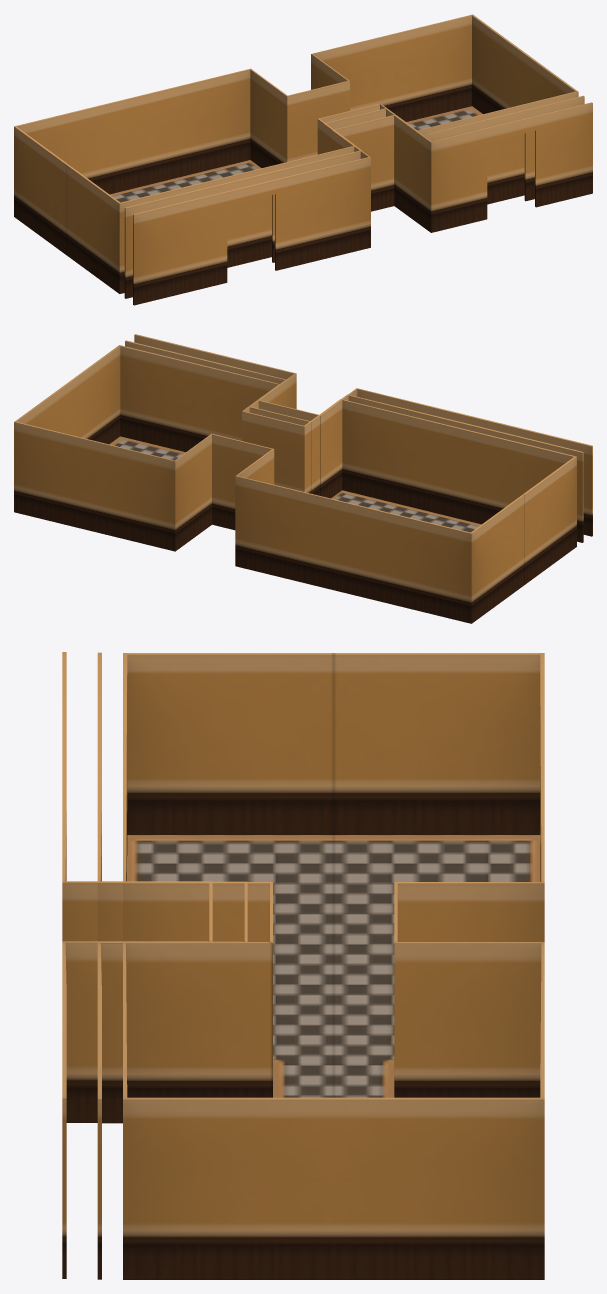
File: Room_03.FBX
3 views of the same model, one above another, from view 1: azimuth 30°, elevation 25°; view 2: azimuth 150°, elevation 25°; view 3: azimuth 270°, elevation 25° (orthographic). The views are drawn at different scales.
Parts seen in each view (by area): view 1: Wall_Door_03_single001, Room3_wall001, Room3_wall002, Room3_wall003, Wall_Door_03_double001, Room3_wall004, Room3_Floor001; view 2: Room3_wall001, Room3_wall003, Room3_wall002, Wall_Door_03_single001, Room3_wall004, Wall_Door_03_double001, Room3_Floor001; view 3: Room3_wall004, Room3_wall002, Room3_Floor001, Room3_wall001, Room3_wall003, Wall_Door_03_single001, Wall_Door_03_double001.
Part boxes in pixels (x1,y1,x2,y2): Wall_Door_03_single001: [133, 102, 592, 305]; Room3_wall001: [14, 14, 473, 213]; Room3_wall002: [14, 126, 121, 293]; Room3_wall003: [118, 91, 578, 293]; Wall_Door_03_double001: [124, 95, 584, 298]; Room3_wall004: [472, 15, 578, 113]; Room3_Floor001: [110, 106, 482, 202]; Room3_wall001: [14, 422, 472, 623]; Room3_wall003: [118, 345, 576, 547]; Room3_wall002: [469, 456, 576, 623]; Wall_Door_03_single001: [134, 334, 592, 536]; Room3_wall004: [14, 346, 120, 511]; Wall_Door_03_double001: [125, 340, 583, 542]; Room3_Floor001: [109, 436, 481, 532]; Room3_wall004: [123, 1097, 544, 1279]; Room3_wall002: [123, 653, 544, 834]; Room3_Floor001: [127, 835, 540, 1097]; Room3_wall001: [394, 653, 544, 1279]; Room3_wall003: [123, 653, 272, 1279]; Wall_Door_03_single001: [62, 652, 212, 1278]; Wall_Door_03_double001: [97, 652, 247, 1279].
Bounding box in the file's own units: 487 × 91.46 × 222.
